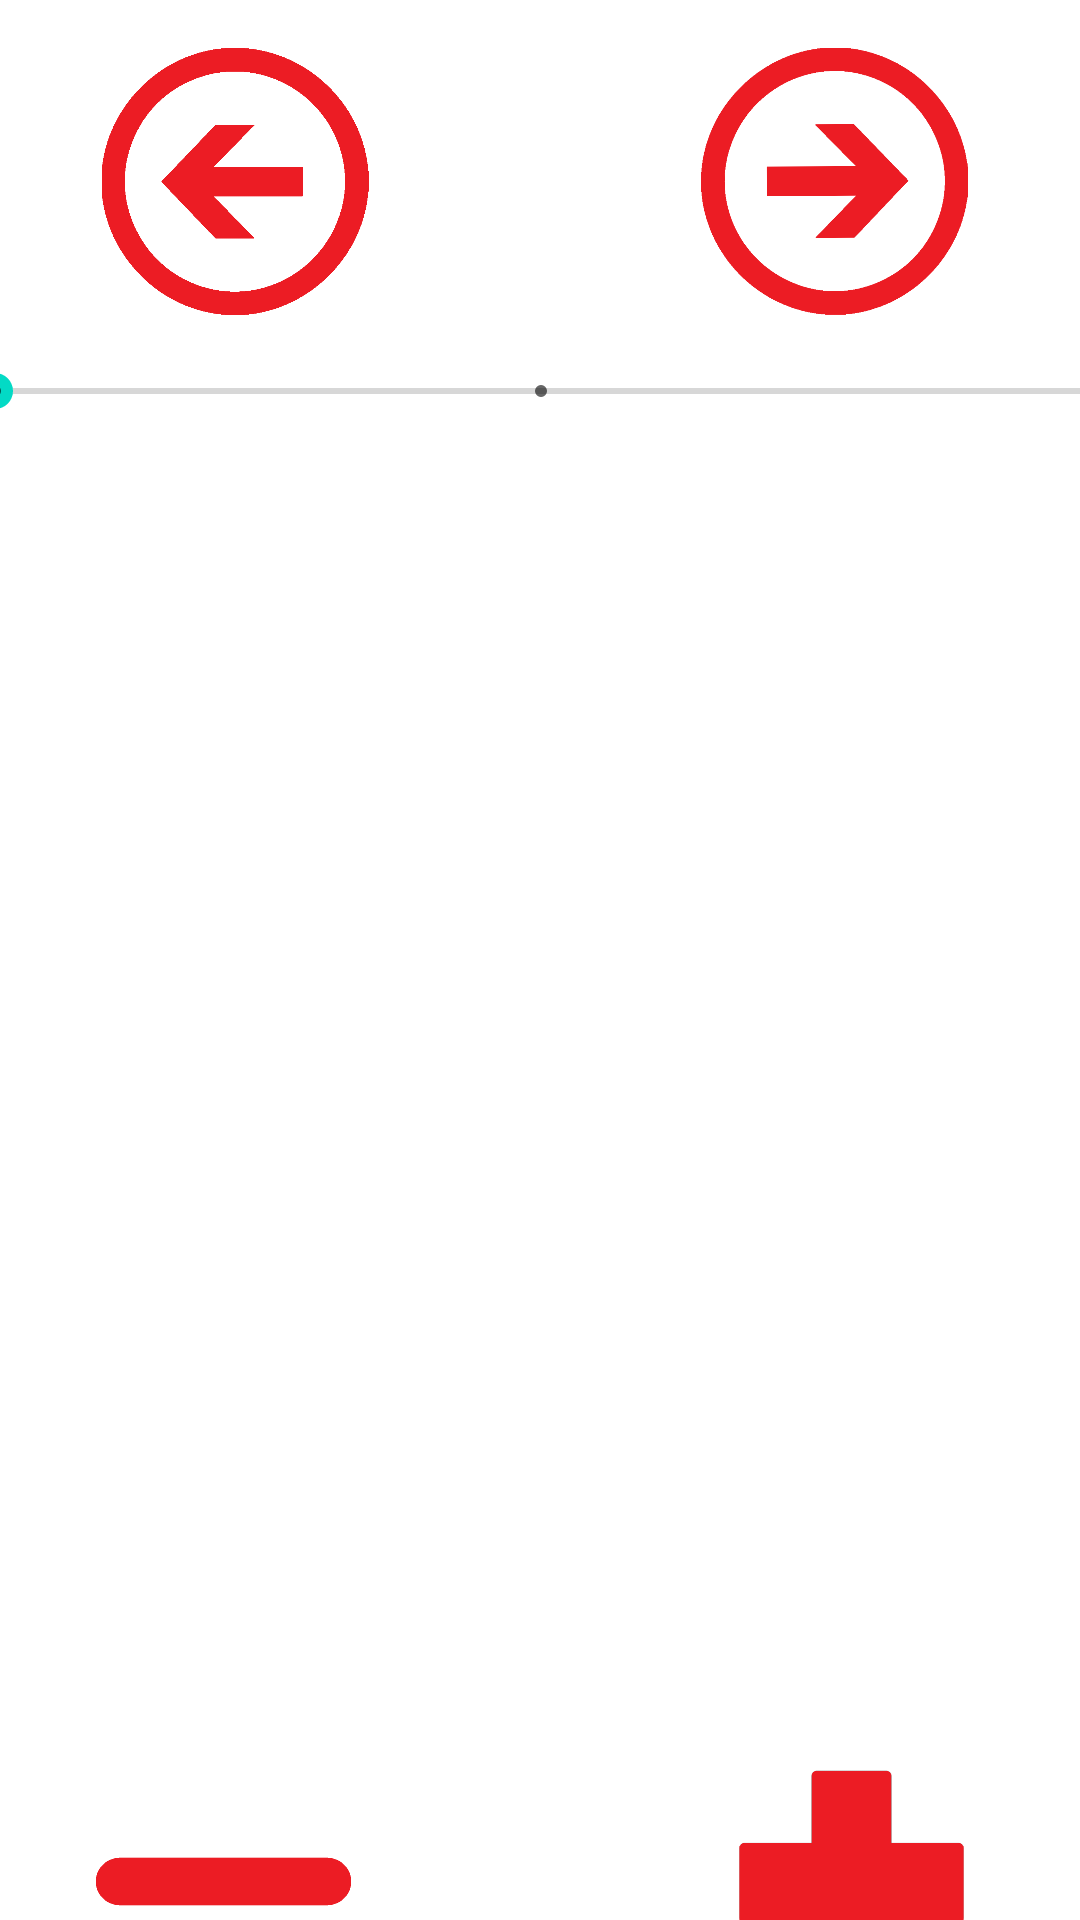

Icon bounding boxes for this 1080px x 1920px phone screenshot, format (x1, y1, x2, y2):
back rojo: (102, 48, 369, 315)
front rojo: (701, 48, 968, 315)
